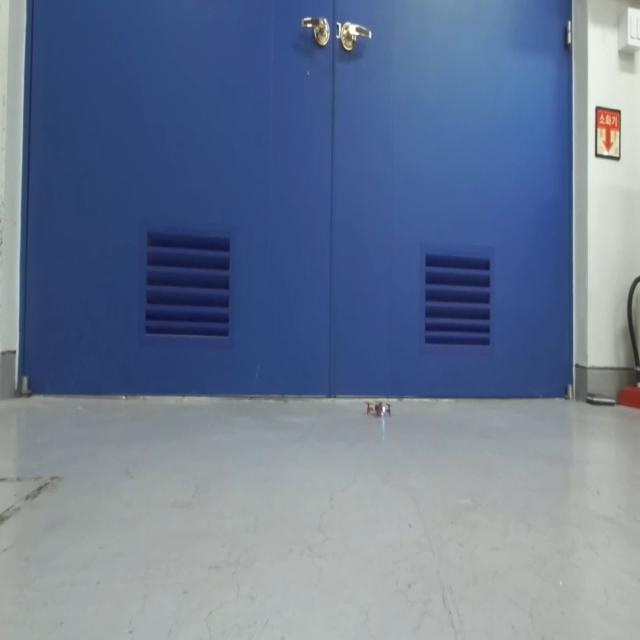crazyflie: (363, 396, 394, 424)
